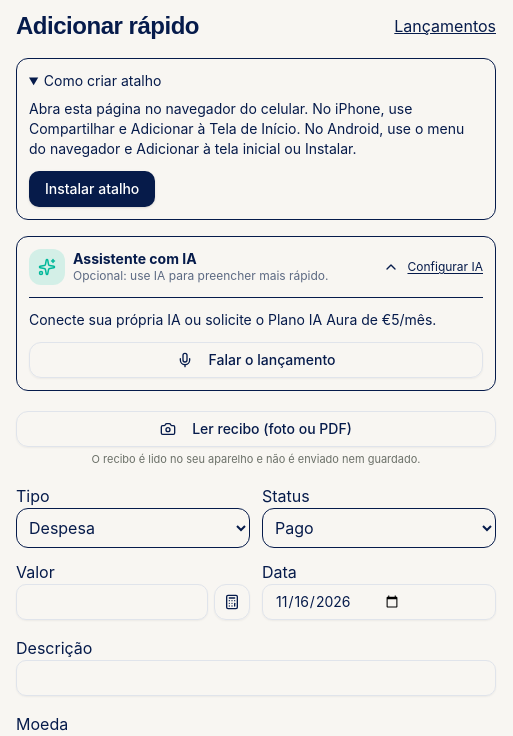
Test case: shortcut link expands instructions and installation requires an explicit click
Click the button "Instalar atalho" at (92, 189), box [29,171,155,207]
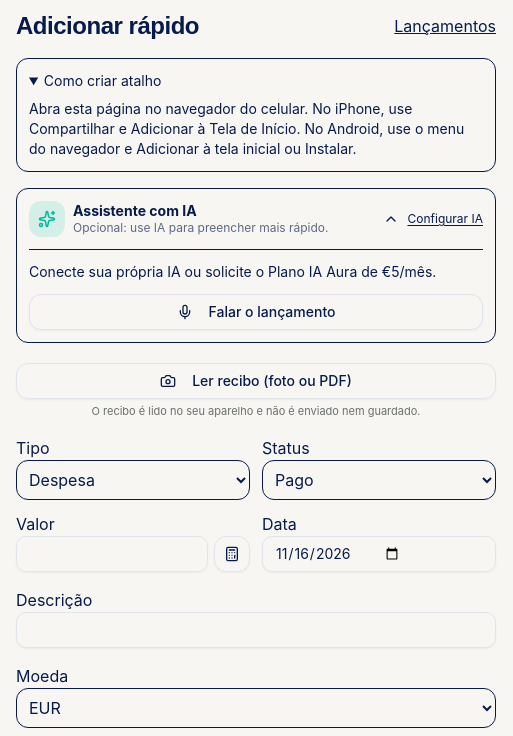
Expected: the text "Instalar atalho" is gone
